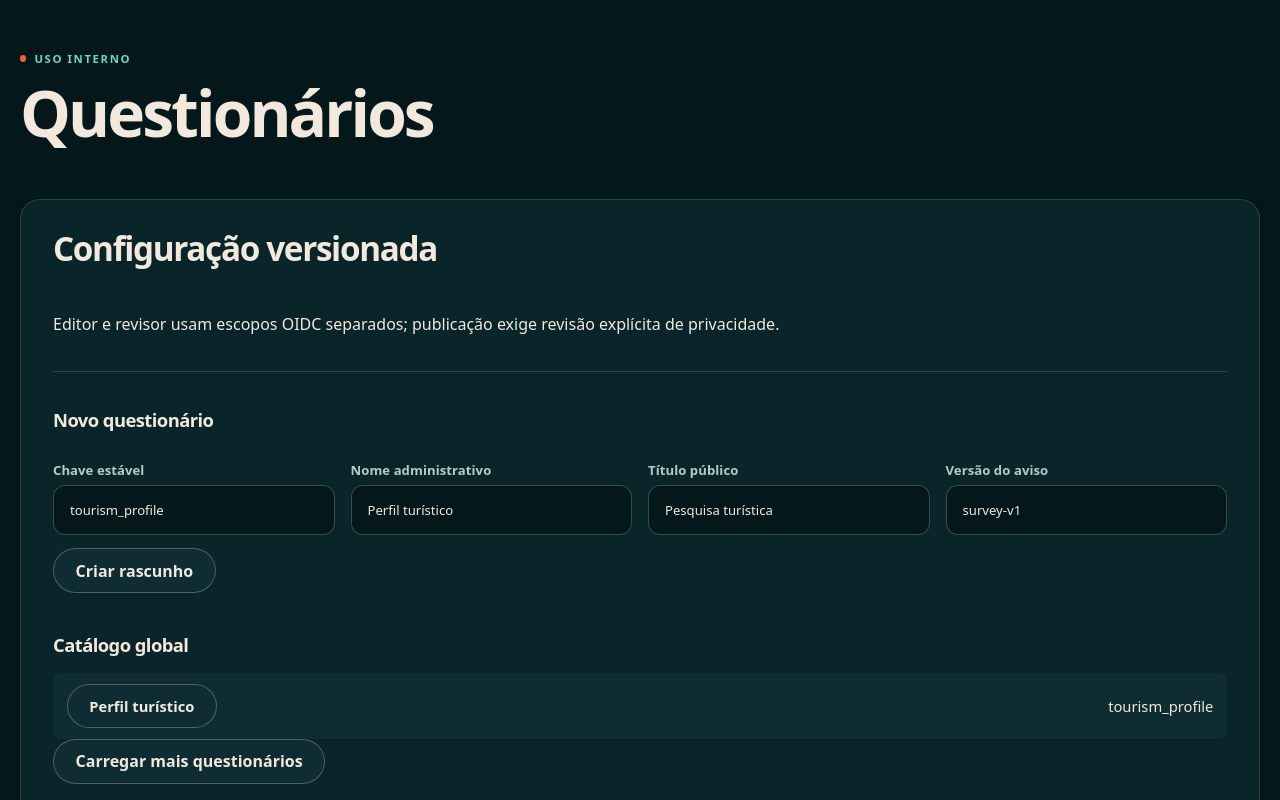
Scenario: administração de questionários › preserva páginas carregadas e permite tentar novamente
The width and height of the screenshot is (1280, 800).
Click the button "Carregar mais questionários" at (189, 761), box [53,739,325,784]
(page scrolled)
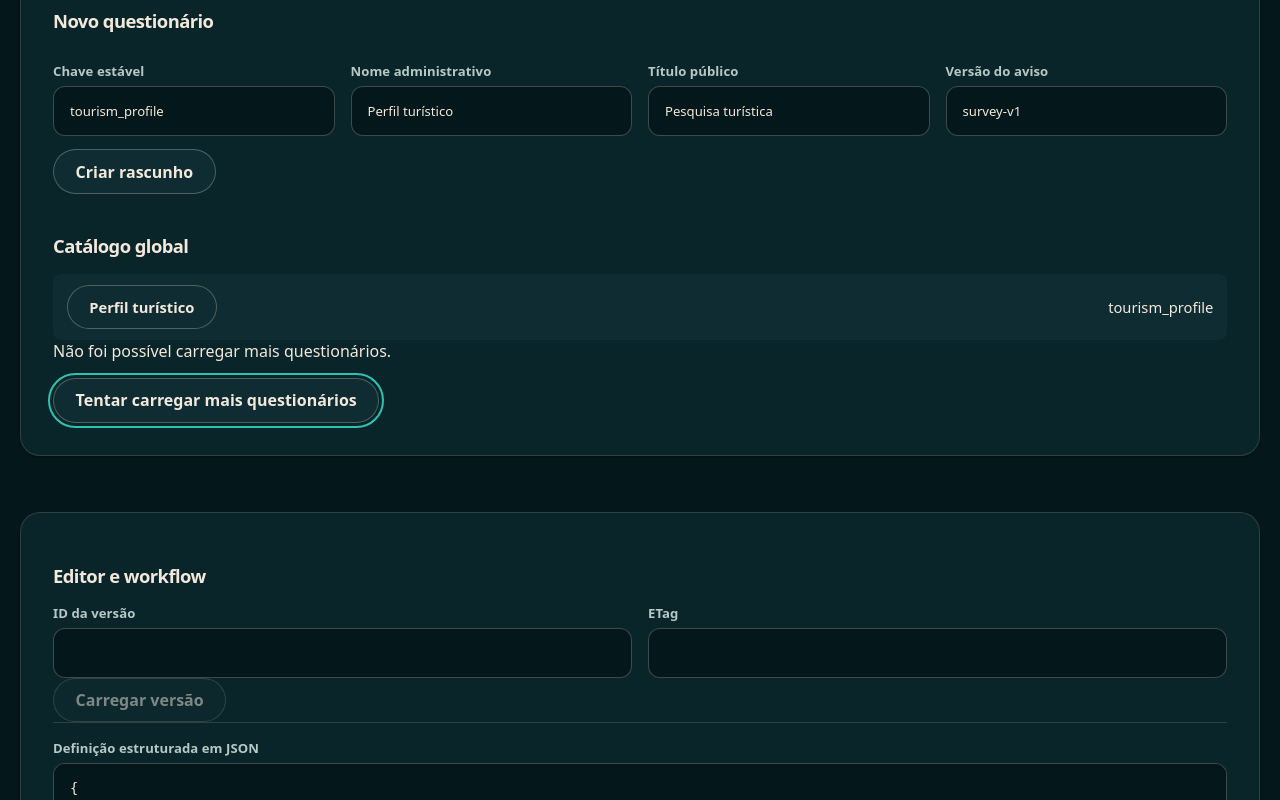
Expected: the button "Perfil turístico" is shown, [67,285,217,329]
Click the button "Tentar carregar mais questionários" at (216, 400), box [53,378,379,423]
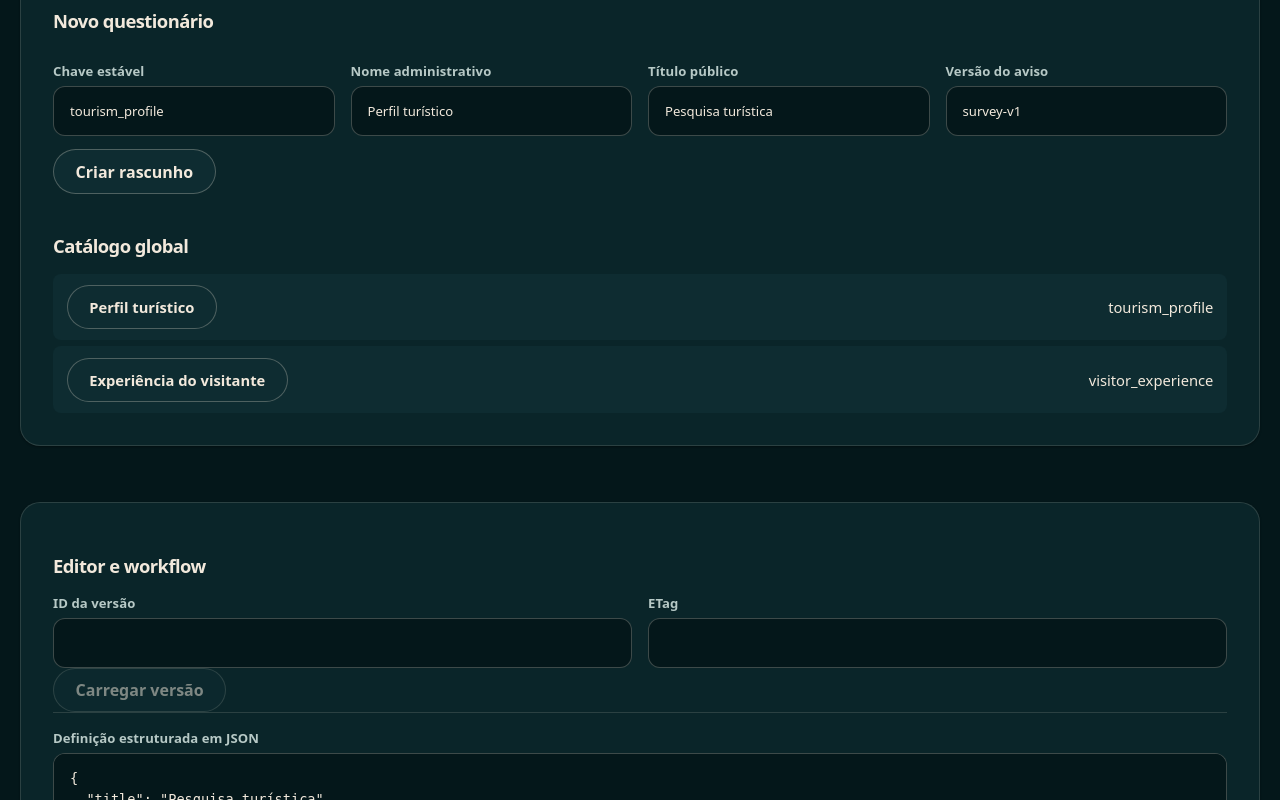
Expected: the button "Experiência do visitante" is shown, [67,358,288,402]
Click the button "Perfil turístico" at (142, 307), box [67,285,217,329]
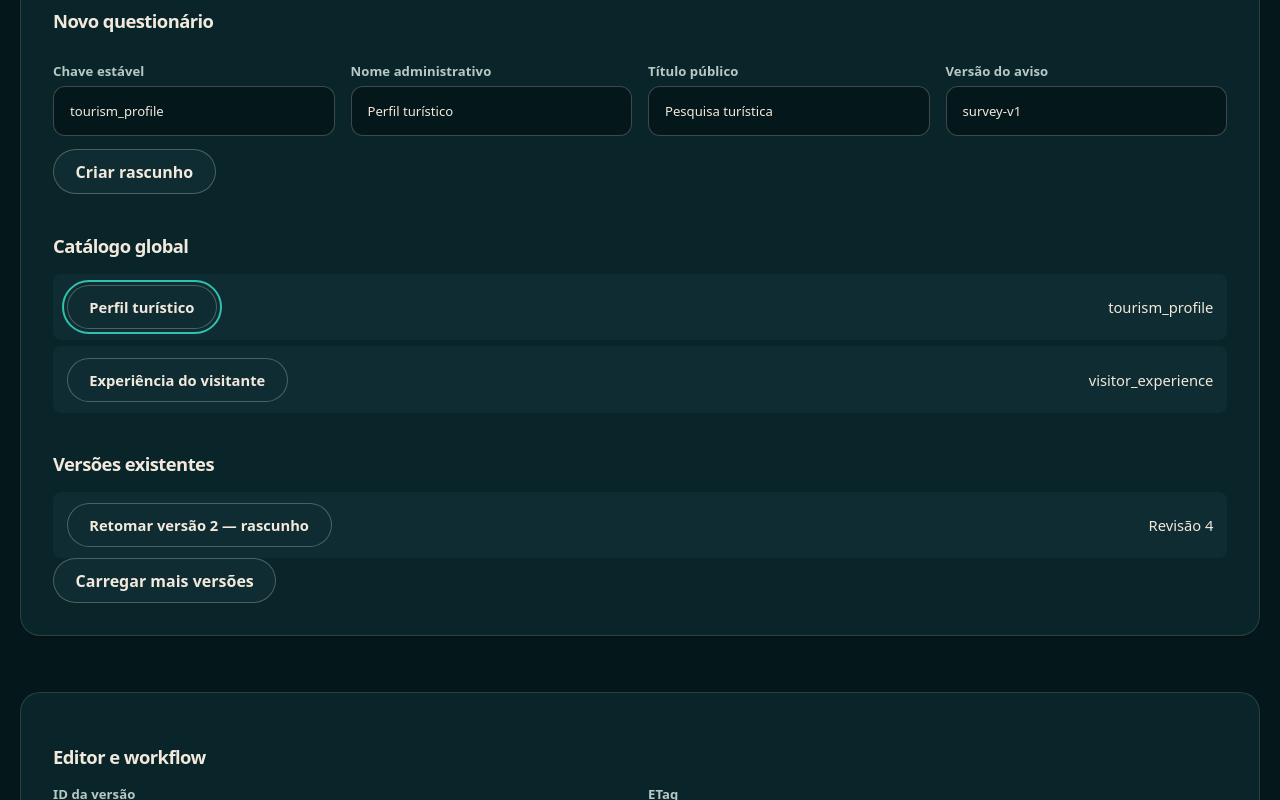
Click the button "Carregar mais versões" at (165, 581), box [53,558,276,603]
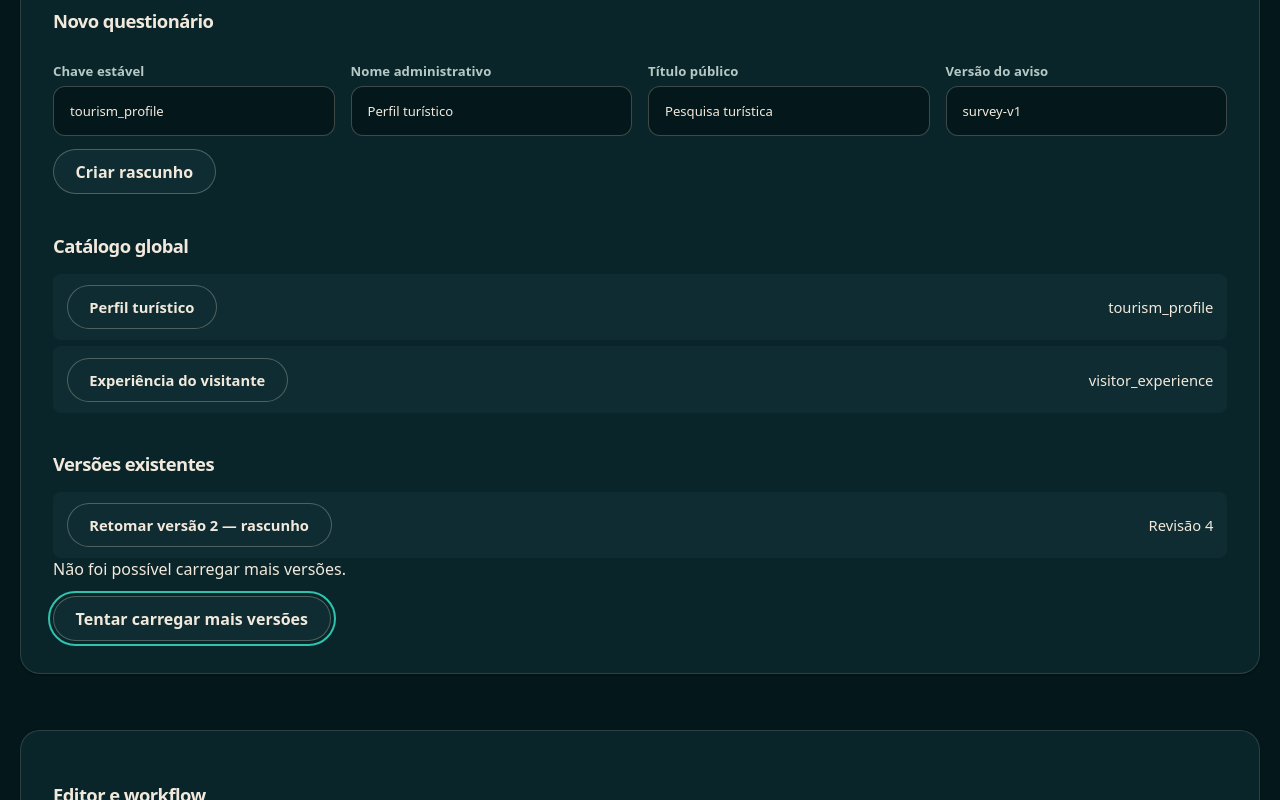
Expected: the button "Retomar versão 2 — rascunho" is shown, [67,503,332,547]
Click the button "Tentar carregar mais versões" at (192, 619), box [53,596,331,641]
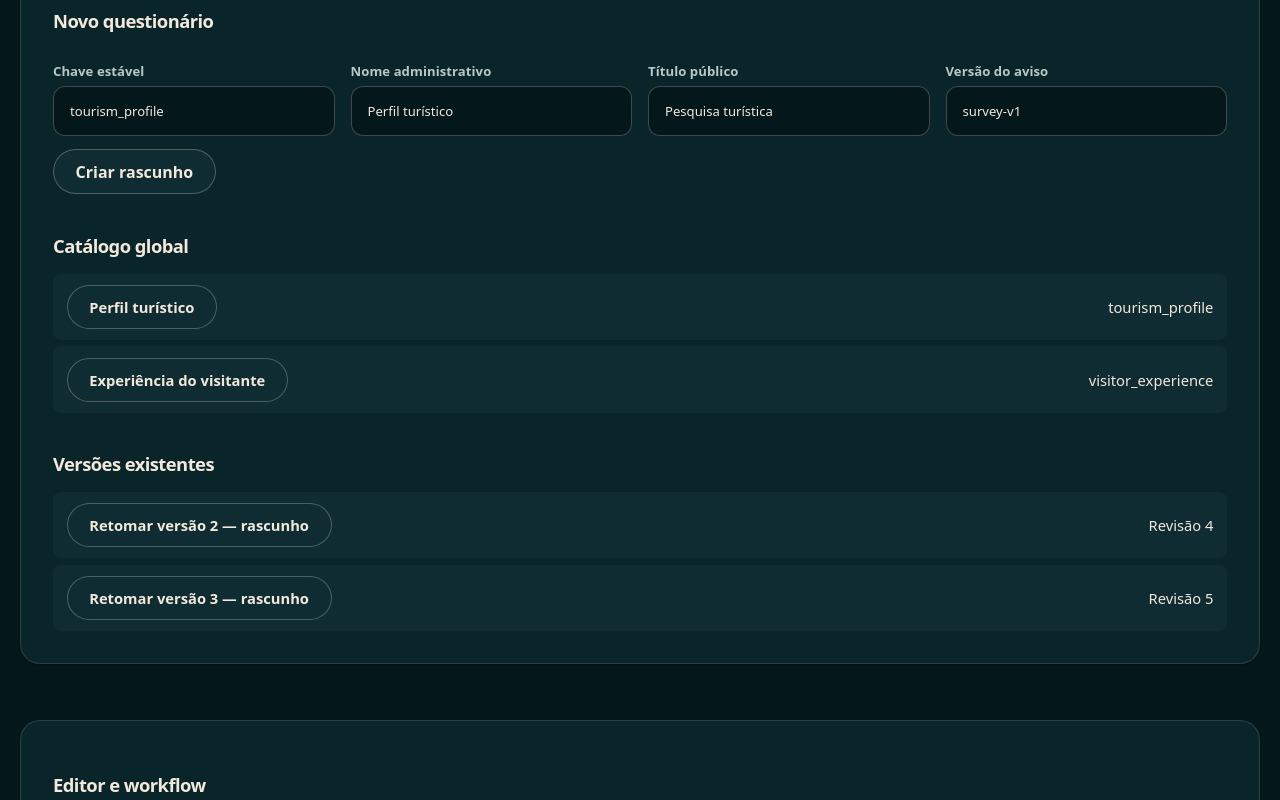
Expected: the button "Retomar versão 3 — rascunho" is shown, [67,576,332,620]
